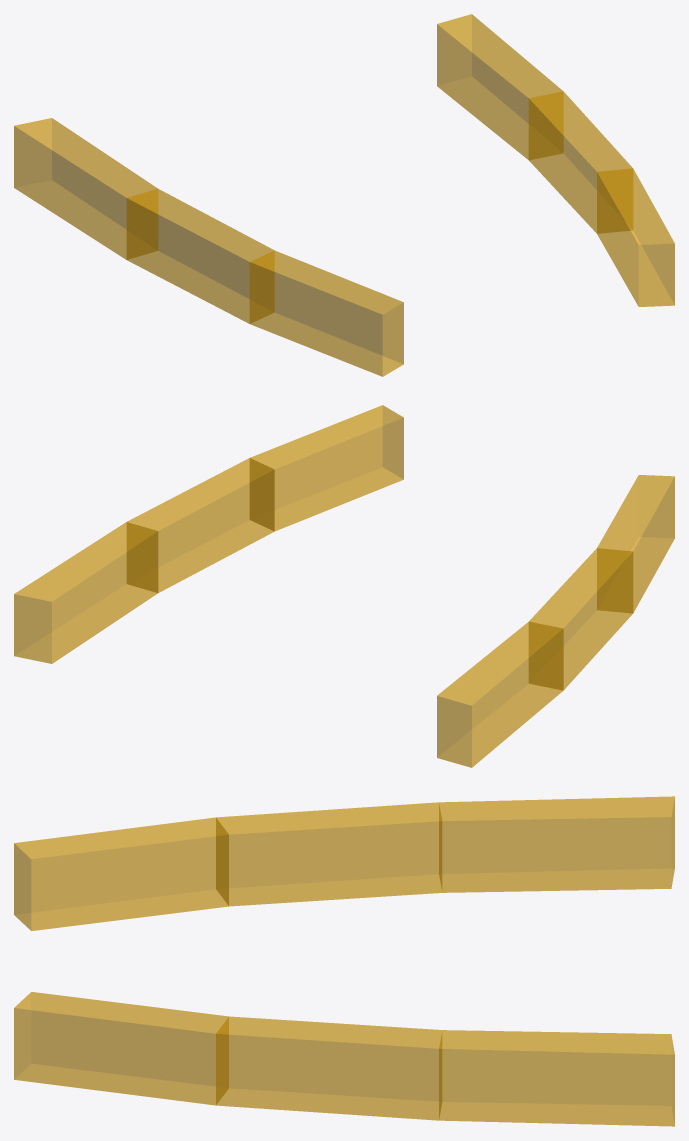
Rendered from SM_Veh_Ship_M_Front_04_Collision.fbx.
3 renders of one model, top to bottom at view 1: azimuth 30°, elevation 25°; view 2: azimuth 150°, elevation 25°; view 3: azimuth 270°, elevation 25°, orthographic. The views are drawn at different scales.
Visible parts, largest first — view 1: SM_Veh_Ship_M_Front_04_Collision; view 2: SM_Veh_Ship_M_Front_04_Collision; view 3: SM_Veh_Ship_M_Front_04_Collision.
Part boxes in pixels (bbox=[...]): SM_Veh_Ship_M_Front_04_Collision: bbox=[14, 14, 674, 376]; SM_Veh_Ship_M_Front_04_Collision: bbox=[14, 405, 674, 767]; SM_Veh_Ship_M_Front_04_Collision: bbox=[14, 796, 674, 1126].
Size of the model in its own units: 690 by 89.41 by 746.
